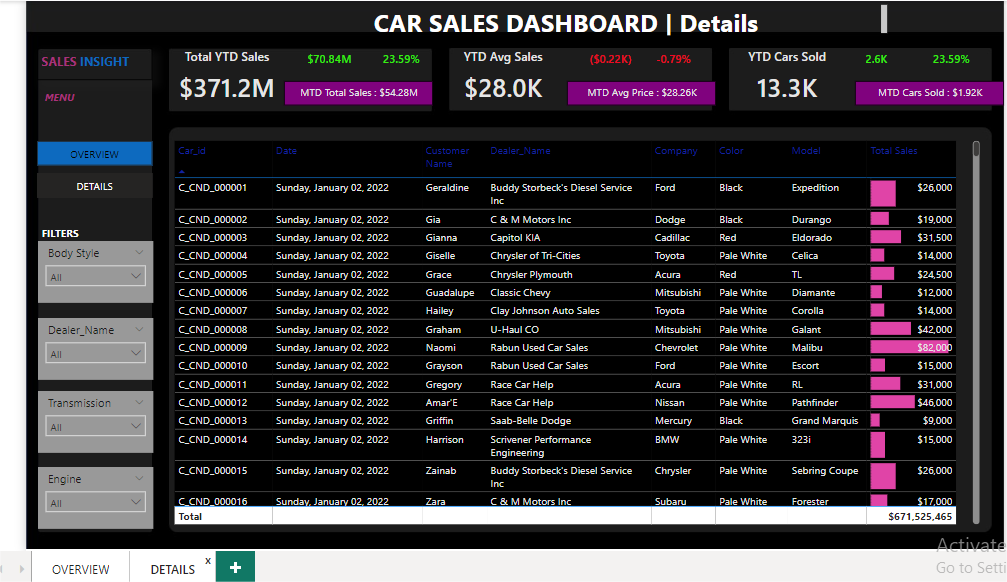

This screenshot's page, from the dashboard's own definition file:
{"tool":"powerbi","page":{"name":"DETAILS","canvas":[1280,720],"ordinal":1},"visuals":[{"type":"card","title":"Total YTD Sales","fields":{"Values":["car_data.YTD Total Sales"]},"box":[188.1,62.2,149.5,82.3],"z":0},{"type":"card","title":"Sales Diff between Years","fields":{"Values":["car_data.Sales Difference"]},"box":[356.1,62.2,82.3,31.9],"z":1000},{"type":"card","title":"Sales Diff between Years","fields":{"Values":["car_data.YoY Sales Growth"]},"box":[450.2,62.2,82.3,31.9],"z":2000},{"type":"card","fields":{"Values":["car_data.MTD KPI"]},"box":[337.6,104.1,194.9,31.9],"z":3000},{"type":"card","title":"YTD Avg Sales","fields":{"Values":["car_data.YTD Avg Price"]},"box":[549.3,62.2,149.5,82.3],"z":4000},{"type":"card","title":"Sales Diff between Years","fields":{"Values":["car_data.Avg Price Diff"]},"box":[724,62.2,82.3,31.9],"z":5000},{"type":"card","title":"Sales Diff between Years","fields":{"Values":["car_data.YoY Avg Price Growth"]},"box":[806.3,62.2,82.3,31.9],"z":6000},{"type":"card","fields":{"Values":["car_data.MTD Avg Price KPI"]},"box":[708.9,104.1,194.9,31.9],"z":7000},{"type":"card","title":"YTD Cars Sold","fields":{"Values":["car_data.YTD Car Sold"]},"box":[922.2,62.2,149.5,82.3],"z":8000},{"type":"card","title":"Sales Diff between Years","fields":{"Values":["car_data.Cars Sold Diff"]},"box":[1071.7,62.2,82.3,31.9],"z":9000},{"type":"card","title":"Sales Diff between Years","fields":{"Values":["car_data.YoY Sales Growth"]},"box":[1170.8,62.2,82.3,31.9],"z":10000},{"type":"card","fields":{"Values":["car_data.MTD Cars Sold KPI"]},"box":[1085.1,104.1,194.9,31.9],"z":11000},{"type":"textbox","box":[450.2,0,682,50.4],"z":12000},{"type":"slicer","fields":{"Values":["car_data.Body Style"]},"box":[15.1,314.1,151.2,80.6],"z":13000},{"type":"slicer","fields":{"Values":["car_data.Dealer_Name"]},"box":[15.1,414.9,151.2,80.6],"z":14000},{"type":"slicer","fields":{"Values":["car_data.Transmission"]},"box":[15.1,510.7,151.2,80.6],"z":15000},{"type":"slicer","fields":{"Values":["car_data.Engine"]},"box":[15.1,609.8,151.2,80.6],"z":16000},{"type":"textbox","box":[15.1,288.9,75.6,30.2],"z":17000},{"type":"tableEx","fields":{"Values":["car_data.Car_id","car_data.Date","car_data.Customer Name","car_data.Dealer_Name","car_data.Company","car_data.Color","car_data.Model","car_data.Price ($)"]},"box":[188.1,178.1,1065,512.3],"z":18000},{"type":"pageNavigator","box":[14.4,182.9,151.2,74.9],"z":19000},{"type":"pageNavigator","box":[14.4,182.9,151.2,74.9],"z":20000},{"type":"textbox","box":[14.4,61.9,151.2,41.8],"z":21000},{"type":"textbox","box":[14.4,110.9,59,33.1],"z":22000}]}

Visuals, with their boxes on the page's 1280x720 design canvas (x1, y1, x2, y2). These are canvas units, not pixel positions in the 1007x582 screenshot, which may show the page scaled, cropped or inside an application window:
"Total YTD Sales" card: x1=188, y1=62, x2=338, y2=144
"Sales Diff between Years" card: x1=356, y1=62, x2=438, y2=94
"Sales Diff between Years" card: x1=450, y1=62, x2=532, y2=94
card - car_data.MTD KPI: x1=338, y1=104, x2=532, y2=136
"YTD Avg Sales" card: x1=549, y1=62, x2=699, y2=144
"Sales Diff between Years" card: x1=724, y1=62, x2=806, y2=94
"Sales Diff between Years" card: x1=806, y1=62, x2=889, y2=94
card - car_data.MTD Avg Price KPI: x1=709, y1=104, x2=904, y2=136
"YTD Cars Sold" card: x1=922, y1=62, x2=1072, y2=144
"Sales Diff between Years" card: x1=1072, y1=62, x2=1154, y2=94
"Sales Diff between Years" card: x1=1171, y1=62, x2=1253, y2=94
card - car_data.MTD Cars Sold KPI: x1=1085, y1=104, x2=1280, y2=136
textbox: x1=450, y1=0, x2=1132, y2=50
slicer - car_data.Body Style: x1=15, y1=314, x2=166, y2=395
slicer - car_data.Dealer_Name: x1=15, y1=415, x2=166, y2=496
slicer - car_data.Transmission: x1=15, y1=511, x2=166, y2=591
slicer - car_data.Engine: x1=15, y1=610, x2=166, y2=690
textbox: x1=15, y1=289, x2=91, y2=319
tableEx - car_data.Car_id x car_data.Date: x1=188, y1=178, x2=1253, y2=690
pageNavigator: x1=14, y1=183, x2=166, y2=258
pageNavigator: x1=14, y1=183, x2=166, y2=258
textbox: x1=14, y1=62, x2=166, y2=104
textbox: x1=14, y1=111, x2=73, y2=144
